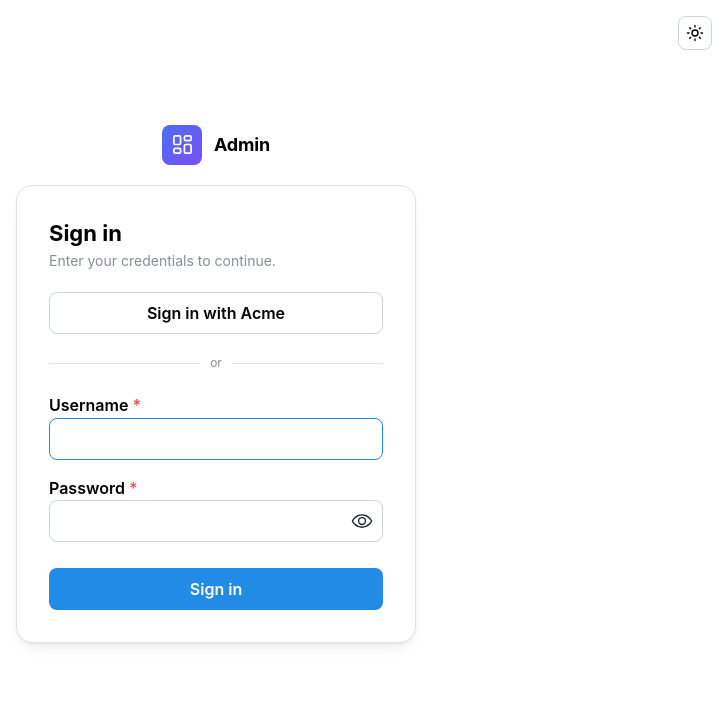
Test: Login with device identity › explains that a sign-in needs HTTPS where there is no WebCrypto
This screenshot has width=728, height=724.
Click the button "Sign in with Acme".
click(216, 313)  # box [49, 292, 383, 334]
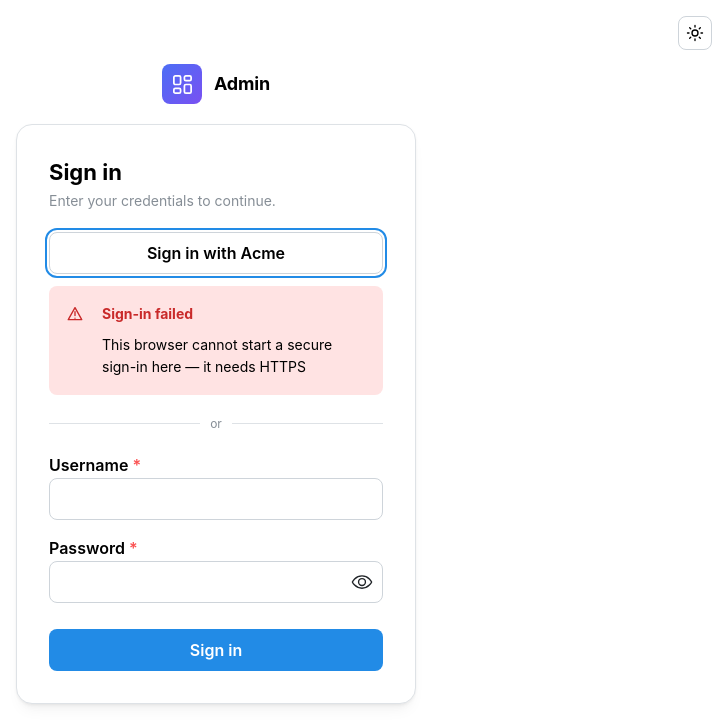
Check: the text "This browser cannot start a secure sign-in here — it needs HTTPS" is shown, box [102, 334, 366, 378]
